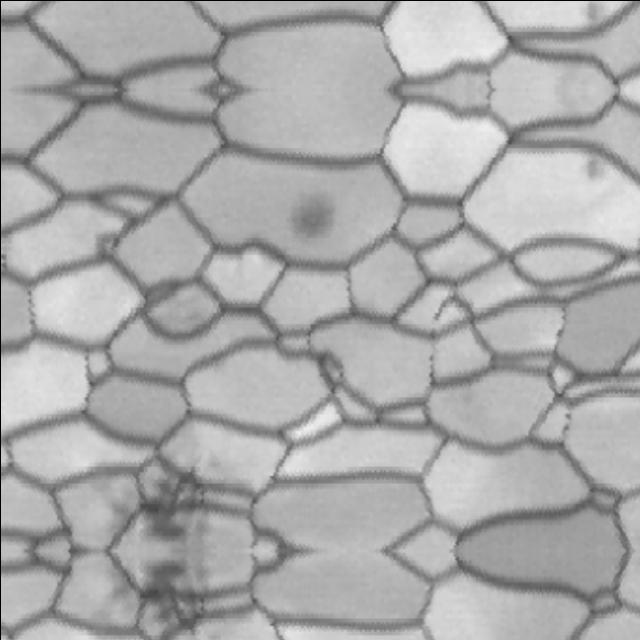good_void: (120, 437, 226, 551), (120, 551, 226, 640), (272, 178, 352, 253), (579, 155, 612, 191), (579, 0, 611, 23)
